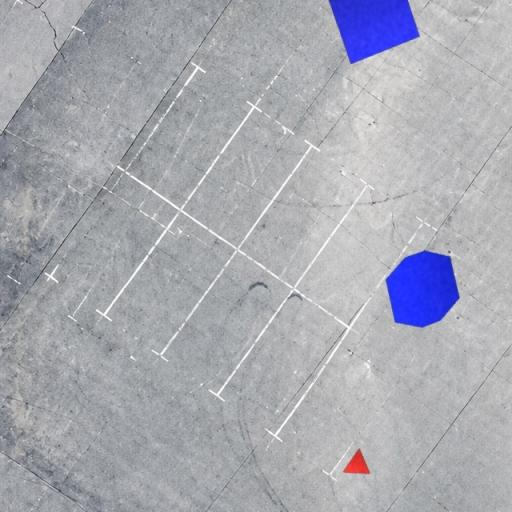BLUE_SQUARE: (323, 0, 421, 65)
